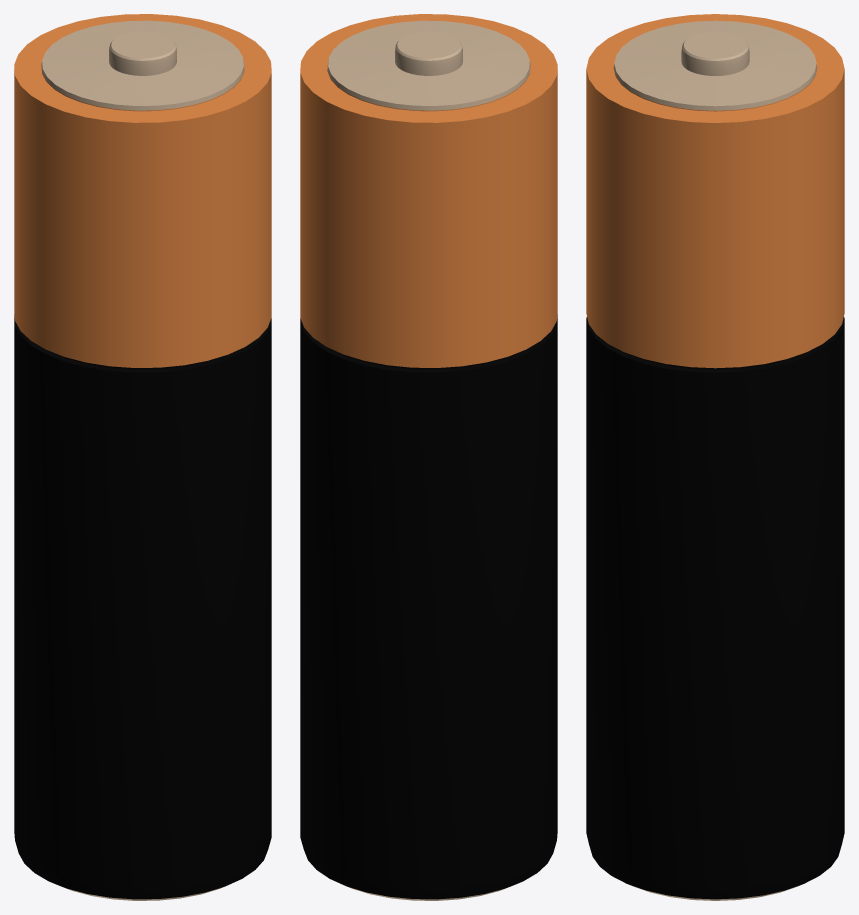
File: pil.fbx
3 views of the same model, side by side, from view 1: azimuth 30°, elevation 25°; view 2: azimuth 150°, elevation 25°; view 3: azimuth 270°, elevation 25° (orthographic).
Visible parts, largest first — view 1: Cylinder, Cylinder.001, Cylinder.002; view 2: Cylinder, Cylinder.001, Cylinder.002; view 3: Cylinder, Cylinder.001, Cylinder.002.
Boxes of the visible parts, x1,y1,x2,y2 form: Cylinder: [14, 314, 271, 899]; Cylinder.001: [14, 14, 271, 367]; Cylinder.002: [41, 20, 244, 110]; Cylinder: [300, 314, 557, 899]; Cylinder.001: [300, 14, 557, 367]; Cylinder.002: [327, 20, 530, 110]; Cylinder: [586, 317, 844, 899]; Cylinder.001: [586, 14, 844, 368]; Cylinder.002: [613, 20, 817, 110].
Size of the model in its own units: 1.81 by 6.23 by 1.81.
